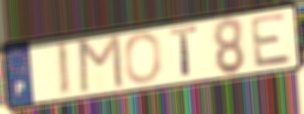8: (211, 16, 247, 76)
E: (248, 11, 295, 70)
I: (55, 39, 73, 99)
M: (77, 32, 126, 96)
O: (123, 30, 163, 85)
T: (168, 24, 200, 80)
